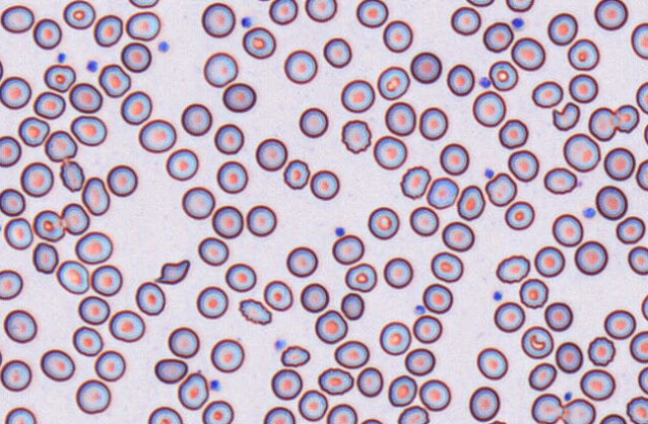PLT: (239, 15, 256, 29), (581, 205, 597, 219), (512, 17, 527, 31), (482, 166, 498, 179), (478, 75, 492, 89), (274, 340, 289, 353), (84, 60, 100, 72), (157, 40, 170, 53), (209, 380, 222, 392), (414, 304, 427, 316), (56, 52, 68, 64), (334, 226, 346, 238), (492, 291, 504, 303), (561, 392, 573, 402)
RBC: (562, 132, 600, 172), (74, 230, 112, 264), (138, 118, 176, 152), (75, 379, 111, 414), (203, 51, 238, 87), (472, 90, 506, 127), (108, 309, 145, 342), (177, 371, 208, 410), (3, 308, 37, 343), (201, 2, 235, 37), (283, 49, 317, 84), (574, 240, 608, 275), (340, 79, 375, 113), (376, 65, 410, 100), (20, 161, 53, 197), (70, 114, 107, 146), (511, 36, 545, 70), (210, 338, 244, 372), (373, 135, 407, 169), (40, 348, 75, 381), (56, 259, 89, 294), (579, 368, 615, 400), (98, 63, 131, 97), (314, 309, 347, 343), (242, 26, 276, 59), (181, 186, 215, 219), (165, 147, 198, 181), (384, 101, 416, 136), (468, 386, 500, 421), (595, 185, 627, 220), (120, 90, 152, 125), (520, 325, 553, 358), (44, 129, 77, 162), (399, 165, 431, 199), (180, 102, 212, 136), (379, 321, 411, 355), (603, 146, 635, 180), (255, 137, 287, 171), (426, 176, 458, 209), (507, 149, 539, 182), (211, 205, 243, 238), (476, 347, 508, 380), (32, 209, 65, 241), (418, 378, 450, 411), (567, 37, 599, 70), (551, 213, 583, 246), (216, 160, 248, 193), (196, 285, 228, 318), (367, 206, 399, 239), (0, 75, 31, 109), (340, 119, 371, 153), (68, 82, 102, 113), (588, 106, 618, 141), (125, 11, 160, 41), (333, 339, 369, 368), (456, 184, 485, 220), (0, 359, 32, 391), (270, 368, 302, 400), (410, 51, 442, 83), (167, 326, 199, 358), (90, 264, 122, 296), (286, 245, 318, 277), (441, 220, 474, 251), (547, 12, 578, 45), (331, 233, 364, 264), (430, 251, 463, 282), (594, 0, 628, 30), (135, 281, 165, 315), (418, 106, 448, 140), (222, 82, 256, 112), (495, 254, 530, 283), (317, 367, 353, 395), (297, 389, 328, 421), (493, 301, 525, 332), (17, 116, 49, 147), (106, 164, 137, 196), (534, 245, 565, 277), (530, 393, 563, 423), (3, 217, 33, 250), (382, 19, 412, 52), (77, 295, 110, 325), (439, 142, 469, 175), (603, 309, 636, 339), (93, 14, 123, 47), (344, 262, 377, 292), (0, 4, 34, 33), (482, 21, 513, 52), (213, 123, 244, 154), (94, 350, 125, 381), (72, 325, 103, 356), (120, 41, 151, 72), (387, 374, 417, 406), (224, 262, 256, 292), (263, 279, 293, 311), (197, 236, 229, 266), (246, 204, 276, 236), (383, 256, 413, 288), (62, 0, 95, 29), (543, 166, 577, 194), (298, 106, 328, 137), (309, 169, 339, 200), (488, 60, 518, 91), (422, 282, 452, 313), (60, 202, 89, 234), (33, 90, 65, 119), (32, 17, 61, 49), (43, 63, 75, 92), (446, 63, 474, 96), (498, 118, 528, 148), (504, 200, 534, 230), (568, 73, 598, 103), (518, 278, 548, 308), (409, 206, 439, 236), (299, 282, 329, 312), (404, 347, 435, 376), (450, 6, 481, 35), (531, 80, 563, 108), (555, 341, 583, 373), (238, 298, 271, 325), (355, 0, 388, 27), (561, 397, 595, 423), (153, 357, 187, 383), (615, 215, 645, 244), (544, 301, 573, 331), (412, 314, 442, 343), (282, 158, 310, 189), (323, 37, 351, 68), (587, 336, 615, 366), (356, 366, 383, 397), (59, 159, 84, 192), (32, 242, 58, 273), (201, 399, 234, 423), (528, 362, 556, 390), (614, 103, 639, 133), (268, 0, 298, 25), (304, 0, 337, 22), (0, 187, 25, 216), (0, 269, 23, 300), (280, 344, 310, 367), (0, 135, 21, 167), (340, 292, 364, 320), (630, 22, 647, 59), (326, 403, 357, 423), (147, 406, 183, 423), (627, 245, 647, 275), (629, 330, 647, 363), (626, 395, 647, 423), (397, 405, 429, 423), (4, 406, 36, 423), (263, 406, 295, 423), (635, 81, 647, 114), (635, 158, 647, 190), (505, 0, 534, 12), (599, 413, 626, 423), (638, 366, 647, 394), (128, 0, 159, 8), (466, 0, 494, 7), (641, 293, 647, 321), (360, 417, 383, 423), (643, 122, 648, 145), (487, 419, 508, 424), (0, 58, 4, 80)
Schistocyte: (82, 178, 111, 216), (485, 173, 517, 207), (152, 259, 191, 286), (551, 102, 582, 132)
